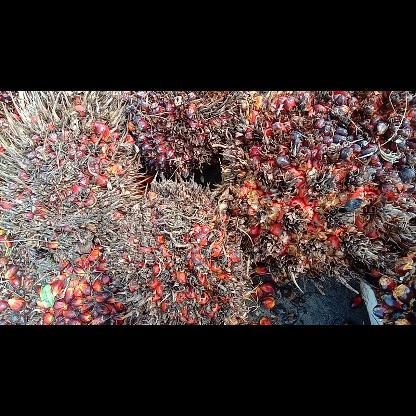Terlalu masak: (218, 90, 414, 296), (0, 90, 151, 266), (105, 174, 253, 324), (123, 90, 269, 180)
